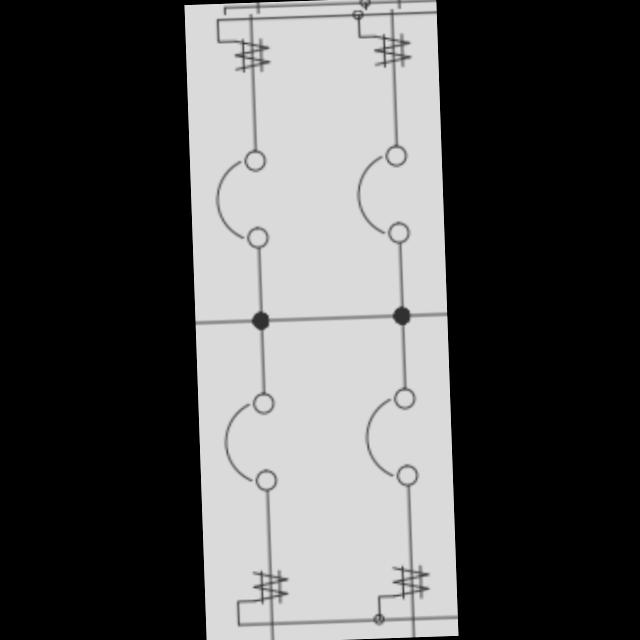ZCT: (389, 562, 429, 602), (371, 32, 412, 71), (232, 37, 270, 76), (252, 569, 286, 605)
